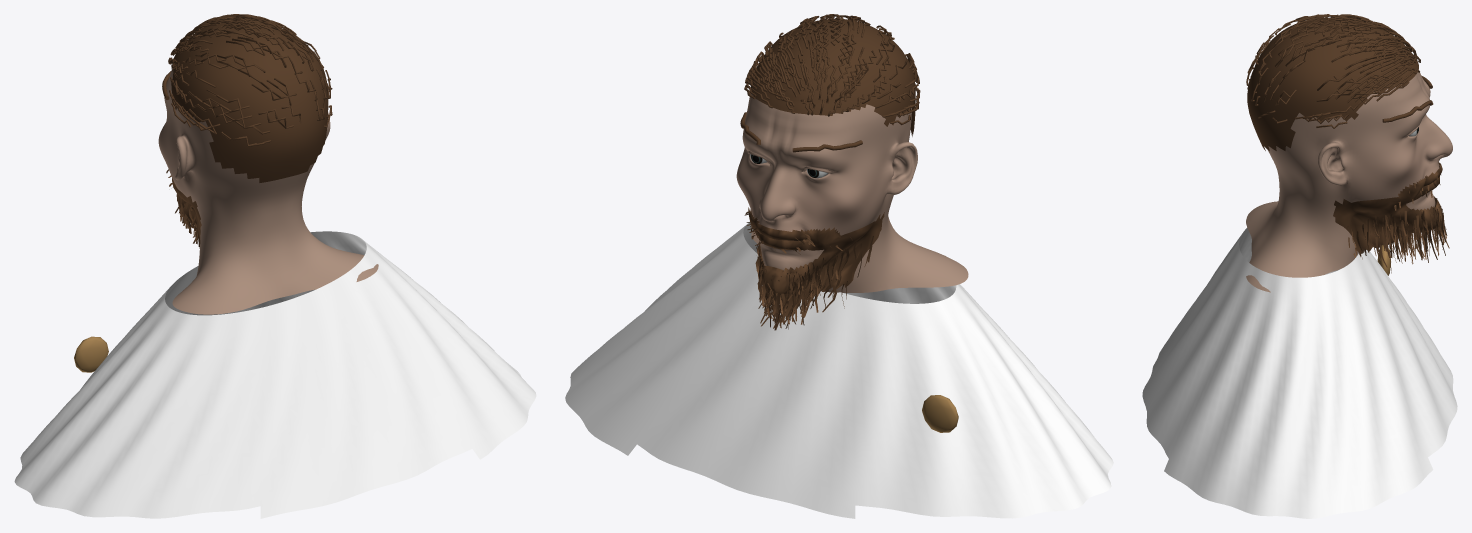
File: envoy_067.glb
3 renders of one model, left to right at view 1: azimuth 30°, elevation 25°; view 2: azimuth 150°, elevation 25°; view 3: azimuth 270°, elevation 25°, orthographic. The views are drawn at different scales.
Parts seen in each view (by area): view 1: Folded shoulder mantle, Envoy 067 body, Envoy 067 fitted scalp, Shoulder clasp, Hades beard hair cards; view 2: Folded shoulder mantle, Envoy 067 body, Envoy 067 fitted scalp, Hades beard hair shell, Hades beard hair cards, Shoulder clasp; view 3: Folded shoulder mantle, Envoy 067 body, Envoy 067 fitted scalp, Hades beard hair shell, Hades beard hair cards.
Part boxes in pixels (x1,y1,x2,y2): Folded shoulder mantle: (14,231,536,518); Envoy 067 body: (158,68,378,314); Envoy 067 fitted scalp: (171,19,328,182); Shoulder clasp: (74,336,108,372); Hades beard hair cards: (166,169,200,248); Folded shoulder mantle: (565,222,1113,518); Envoy 067 body: (736,94,968,292); Envoy 067 fitted scalp: (750,18,915,136); Hades beard hair shell: (748,207,884,295); Hades beard hair cards: (744,211,873,330); Shoulder clasp: (922,395,958,432); Folded shoulder mantle: (1142,228,1457,518); Envoy 067 body: (1246,72,1452,292); Envoy 067 fitted scalp: (1247,17,1418,151); Hades beard hair shell: (1333,162,1442,253); Hades beard hair cards: (1347,171,1449,273).
Bounding box in the file's own units: 0.3152 × 0.2465 × 0.1831.
